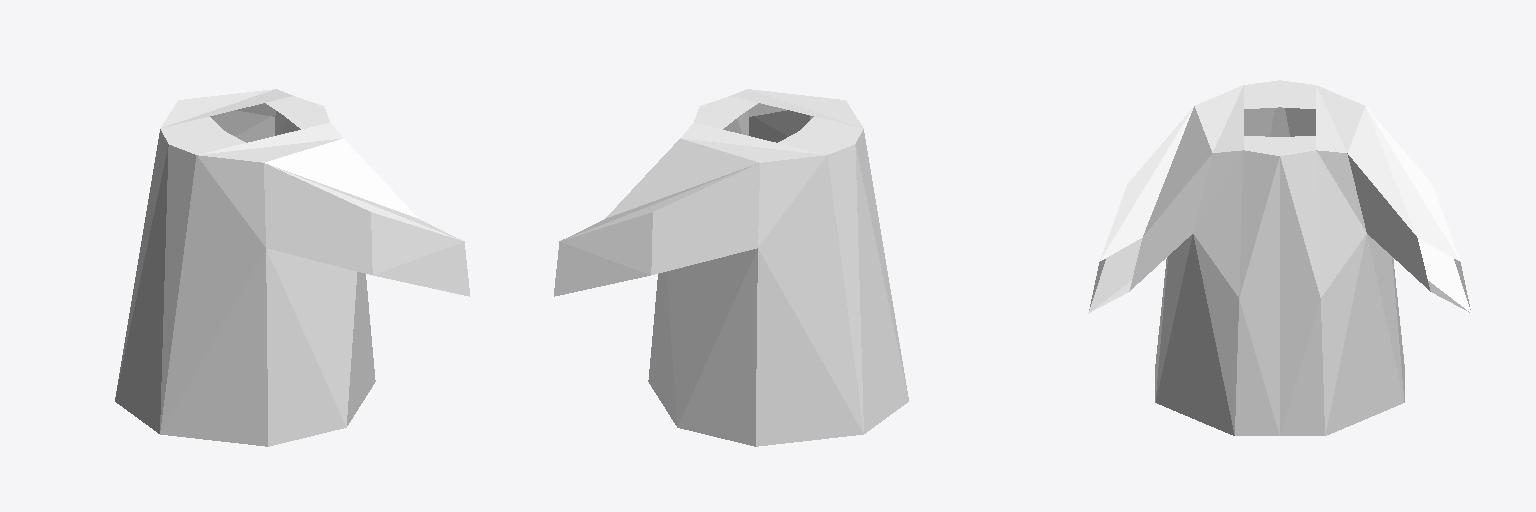
File: shirt.obj
3 renders of one model, left to right at view 1: azimuth 30°, elevation 25°; view 2: azimuth 150°, elevation 25°; view 3: azimuth 270°, elevation 25°, orthographic.
Parts seen in each view (by area): view 1: Shirt_Cube.022; view 2: Shirt_Cube.022; view 3: Shirt_Cube.022.
Part boxes in pixels (bbox=[...]): Shirt_Cube.022: bbox=[115, 89, 469, 446]; Shirt_Cube.022: bbox=[554, 89, 908, 446]; Shirt_Cube.022: bbox=[1088, 80, 1471, 435].
Bounding box in the file's own units: 0.8613 × 0.923 × 1.2.